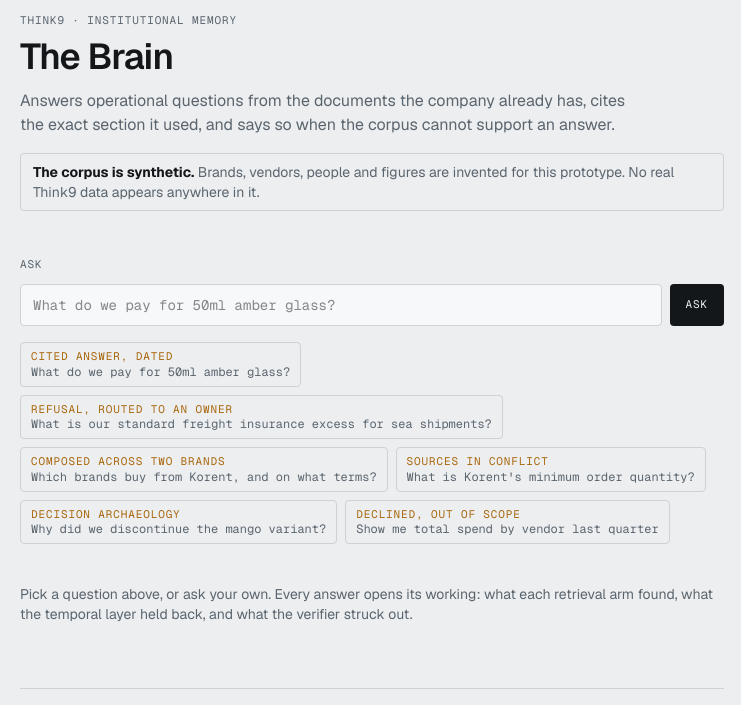
Home › a second question replaces the first instead of racing it
This screenshot has width=741, height=705.
What coordinates should you click on to do the following:
click the text "What do we pay for 50ml amber glass?"
I would click on:
 (161, 372)
Its box is [31,364,290,380].
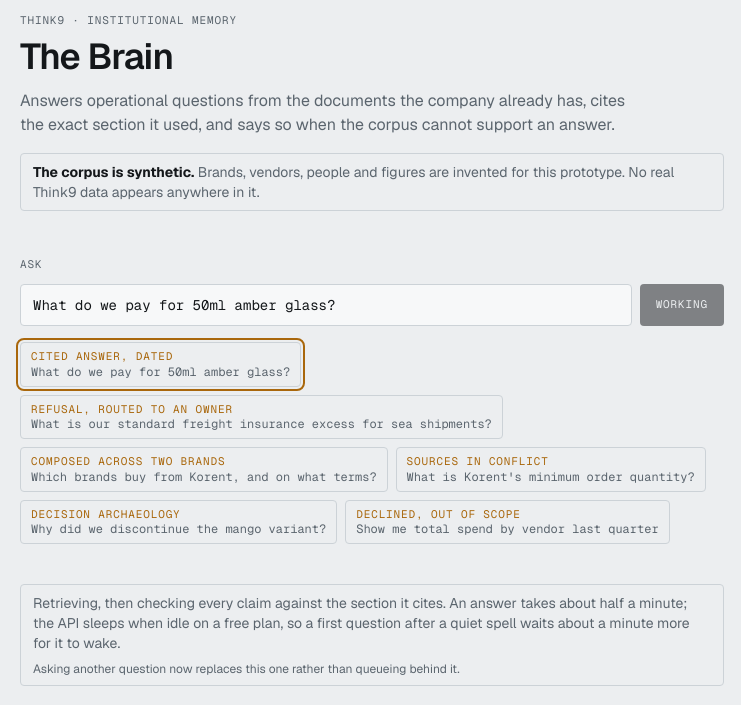
What coordinates should you click on to do the following:
click the text "Why did we discontinue the mango variant?"
I would click on:
 (179, 530)
Its box is [31,522,326,538].
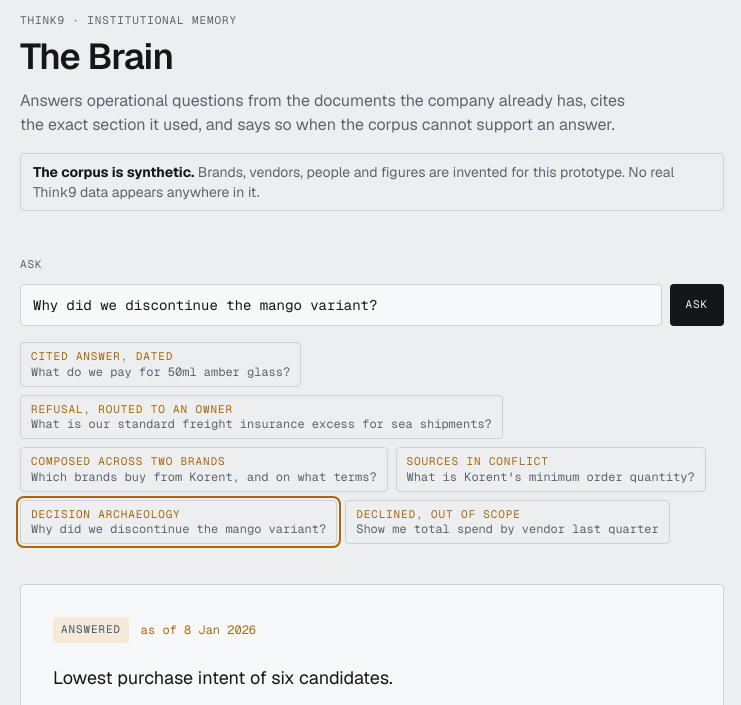
Result: the text "Lowest purchase intent of six candidates." is shown at [53,666,393,688]
